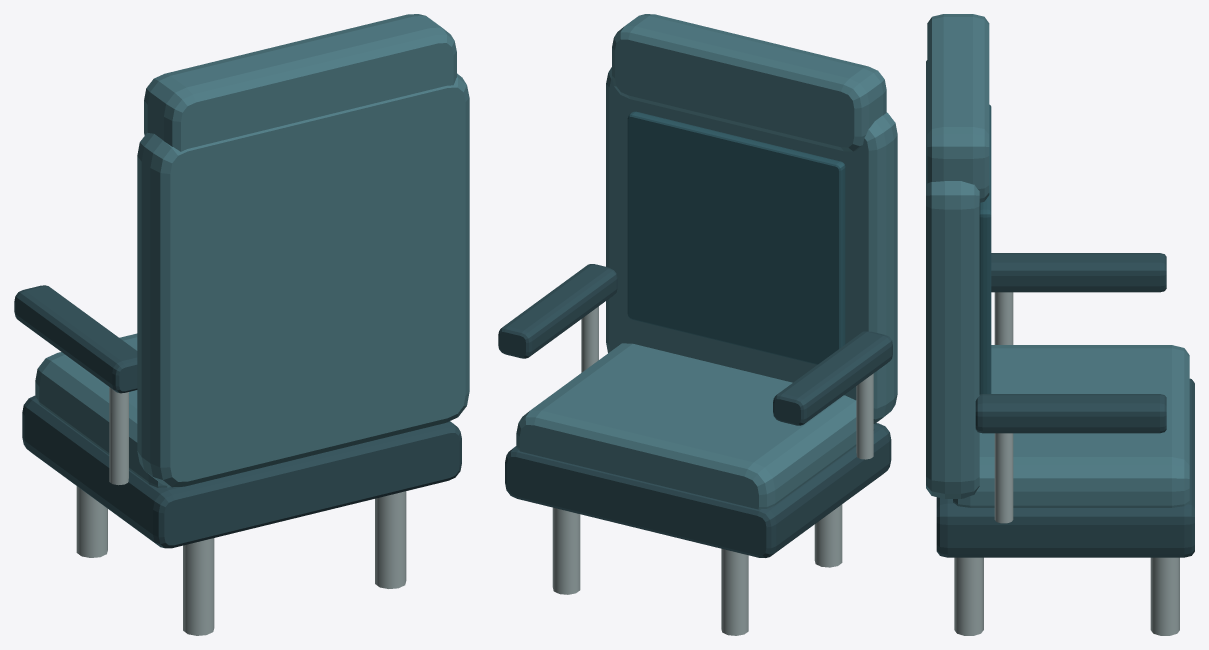
File: seat_modern.glb
The picture shows the model from 3 angles, left to right: view 1: azimuth 30°, elevation 25°; view 2: azimuth 150°, elevation 25°; view 3: azimuth 270°, elevation 25°; orthographic projection. The views are drawn at different scales.
Parts seen in each view (by area): view 1: Upholstered backrest, Seat frame, Headrest, Tapered leg (×3), Armrest, Seat cushion, Arm support; view 2: Backrest inset, Seat cushion, Upholstered backrest, Headrest, Seat frame, Armrest (×2), Tapered leg (×3), Arm support (×2); view 3: Seat cushion, Upholstered backrest, Armrest (×2), Seat frame, Headrest, Tapered leg (×2), Arm support (×2), Backrest inset.
Part boxes in pixels (x1,y1,x2,y2): Upholstered backrest: (137, 73, 469, 487); Seat frame: (22, 395, 461, 548); Headrest: (144, 14, 456, 151); Tapered leg (×3): (76, 486, 406, 635); Armrest: (14, 285, 137, 393); Seat cushion: (35, 333, 169, 487); Arm support: (109, 387, 128, 485); Backrest inset: (627, 111, 845, 364); Seat cushion: (516, 343, 874, 509); Upholstered backrest: (606, 67, 897, 423); Headrest: (612, 14, 886, 151); Seat frame: (505, 423, 891, 557); Armrest (×2): (498, 264, 892, 425); Tapered leg (×3): (552, 504, 842, 635); Arm support (×2): (581, 306, 873, 459); Seat cushion: (953, 345, 1189, 507); Upholstered backrest: (926, 60, 979, 498); Armrest (×2): (975, 253, 1166, 433); Seat frame: (936, 378, 1194, 557); Headrest: (927, 14, 989, 202); Tapered leg (×2): (954, 557, 1179, 635); Arm support (×2): (994, 292, 1013, 523); Backrest inset: (979, 104, 991, 394).
Size of the model in its own units: 1.39 by 2.11 by 1.
